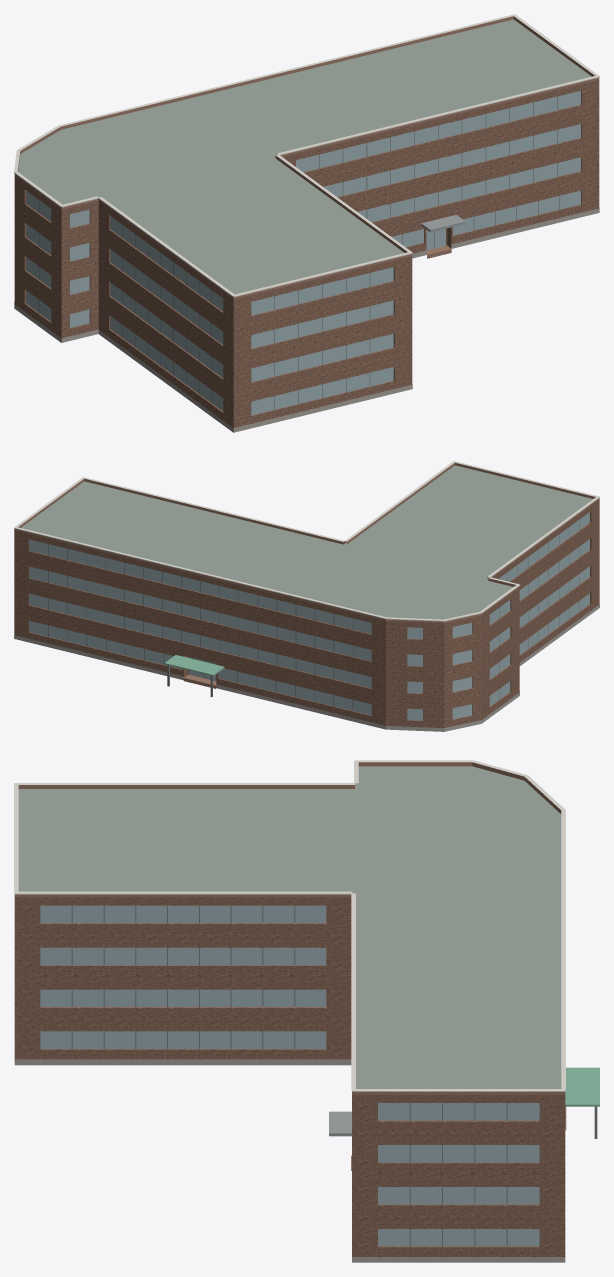
3 renders of one model, top to bottom at view 1: azimuth 30°, elevation 25°; view 2: azimuth 150°, elevation 25°; view 3: azimuth 270°, elevation 25°, orthographic. The views are drawn at different scales.
Visible parts, largest first — view 1: b115951826__roof, b115951826__wall, b115951826__glass, b115951826__trim, b115951826__parapet, b115951826__base, b115951826__frame; view 2: b115951826__wall, b115951826__roof, b115951826__glass, b115951826__trim, b115951826__parapet, b115951826__base, b115951826__frame, b115951826__roofGlass; view 3: b115951826__roof, b115951826__wall, b115951826__glass, b115951826__trim, b115951826__parapet, b115951826__base, b115951826__frame, b115951826__roofGlass.
Boxes of the visible parts, box(x1,y1,x2,y2) form: b115951826__roof: box(18, 19, 591, 294); b115951826__wall: box(14, 79, 599, 432); b115951826__glass: box(26, 91, 580, 415); b115951826__trim: box(14, 14, 599, 297); b115951826__parapet: box(14, 16, 599, 299); b115951826__base: box(14, 208, 599, 432); b115951826__frame: box(39, 96, 559, 409); b115951826__wall: box(14, 499, 599, 727); b115951826__roof: box(21, 465, 592, 619); b115951826__glass: box(29, 512, 589, 720); b115951826__trim: box(14, 461, 599, 621); b115951826__parapet: box(14, 462, 599, 623); b115951826__base: box(14, 604, 599, 731); b115951826__frame: box(48, 519, 579, 710); b115951826__roofGlass: box(164, 655, 224, 676); b115951826__roof: box(18, 766, 561, 1088); b115951826__wall: box(14, 897, 565, 1256); b115951826__glass: box(40, 905, 539, 1246); b115951826__trim: box(14, 760, 565, 1091); b115951826__parapet: box(14, 762, 565, 1094); b115951826__base: box(14, 1059, 565, 1262); b115951826__frame: box(71, 905, 597, 1246); b115951826__roofGlass: box(565, 1067, 599, 1106).
Bounding box in the file's own units: 60.88 × 15.15 × 45.6.
12 materials, 1 textured.
